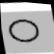no answer: (4, 14, 44, 47)
